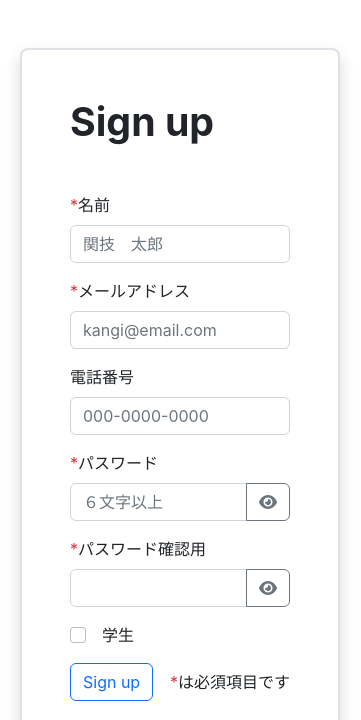
it: SignupForm › when the length of the password is less than 6, error message is showed
This screenshot has width=361, height=720.
Type "test" into the password field labelled "*パスワード" at (158, 502), box [70,483,247,521]
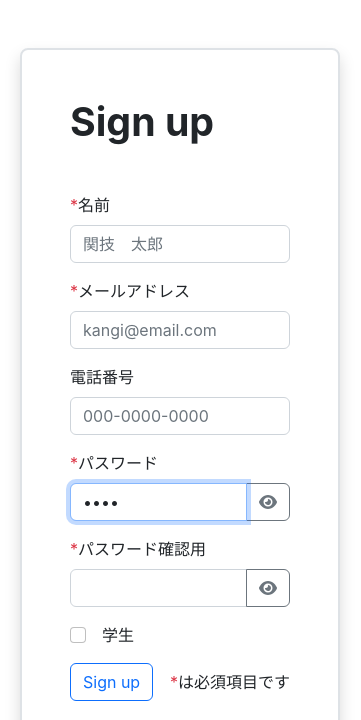
Click the button "Sign up" at (112, 682), box [70,663,153,701]
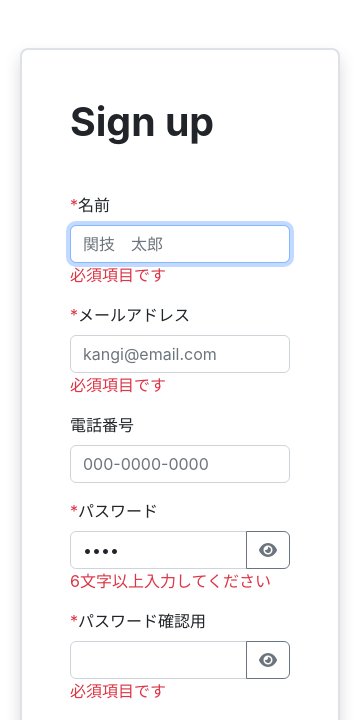
Check: the text "6文字以上入力してください" is shown once, box [70,571,271,591]
Type "12" into the password field labelled "*パスワード" at (158, 550), box [70,531,247,569]
(page scrolled)
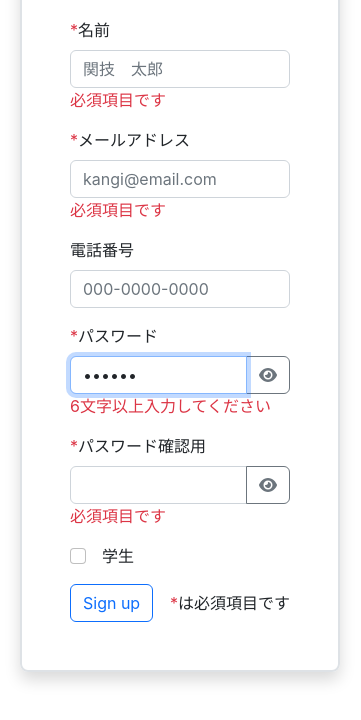
Click the button "Sign up" at (112, 603), box [70,584,153,622]
(page scrolled)
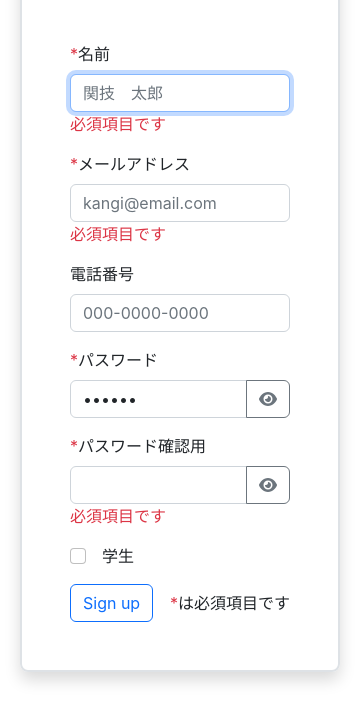
Check: the text "6文字以上入力してください" is not shown
